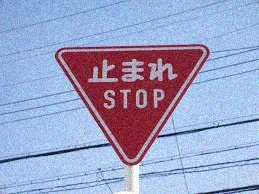Regulatory_sign_triangle: (54, 39, 208, 159)
